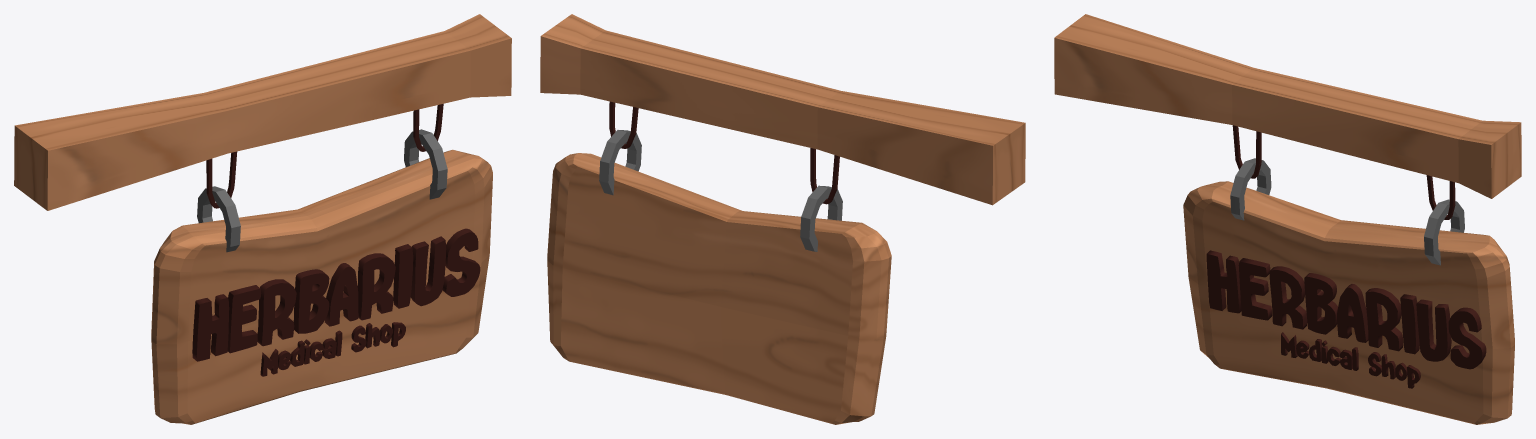
The model's file is signboard.fbx.
The picture shows the model from 3 angles, left to right: view 1: azimuth 30°, elevation 25°; view 2: azimuth 150°, elevation 25°; view 3: azimuth 330°, elevation 25°; orthographic projection. The views are drawn at different scales.
Parts seen in each view (by area): view 1: Cube, Cube.043, Text.001, Text, SuperToroid, SuperToroid.001, Vert.020, Vert.023; view 2: Cube, Cube.043, SuperToroid, SuperToroid.001, Vert.020, Vert.023; view 3: Cube, Cube.043, Text.001, Text, SuperToroid, SuperToroid.001, Vert.020, Vert.023.
Boxes of the visible parts, box(x1,y1,x2,y2) form: Cube: box(151, 149, 492, 424); Cube.043: box(14, 14, 511, 210); Text.001: box(192, 228, 480, 361); Text: box(260, 322, 405, 376); SuperToroid: box(404, 129, 447, 199); SuperToroid.001: box(197, 186, 240, 252); Vert.020: box(206, 151, 237, 208); Vert.023: box(413, 104, 443, 151); Cube: box(547, 153, 891, 424); Cube.043: box(540, 14, 1025, 205); SuperToroid: box(599, 130, 641, 195); SuperToroid.001: box(800, 185, 842, 251); Vert.020: box(810, 148, 839, 204); Vert.023: box(609, 101, 638, 148); Cube: box(1183, 181, 1514, 424); Cube.043: box(1054, 14, 1521, 198); Text.001: box(1206, 250, 1486, 369); Text: box(1281, 332, 1420, 388); SuperToroid: box(1424, 199, 1464, 265); SuperToroid.001: box(1230, 158, 1271, 220); Vert.020: box(1232, 125, 1261, 178); Vert.023: box(1426, 175, 1455, 219).
Bounding box in the file's own units: 1988 × 1339 × 300.
Materials: 4 (1 with a texture image).
